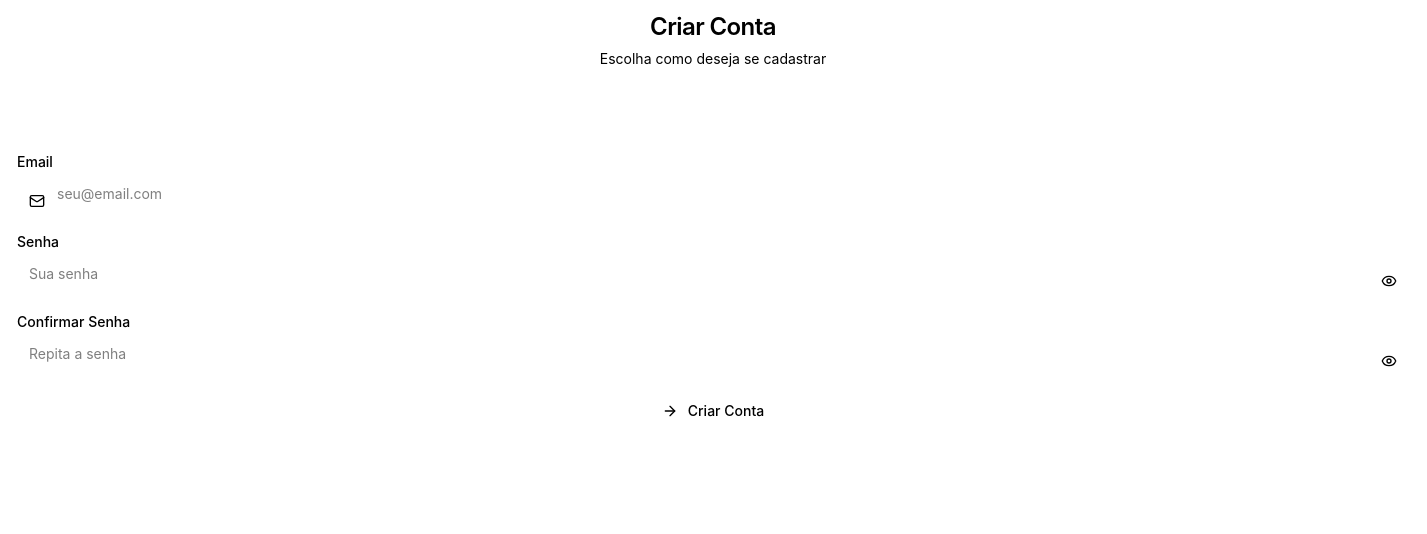
Test: StepAccount › password rules checklist › shows password rules checklist when user types in password
In the password field labelled "Senha": (713, 273) [17, 253, 1409, 293], type "a"
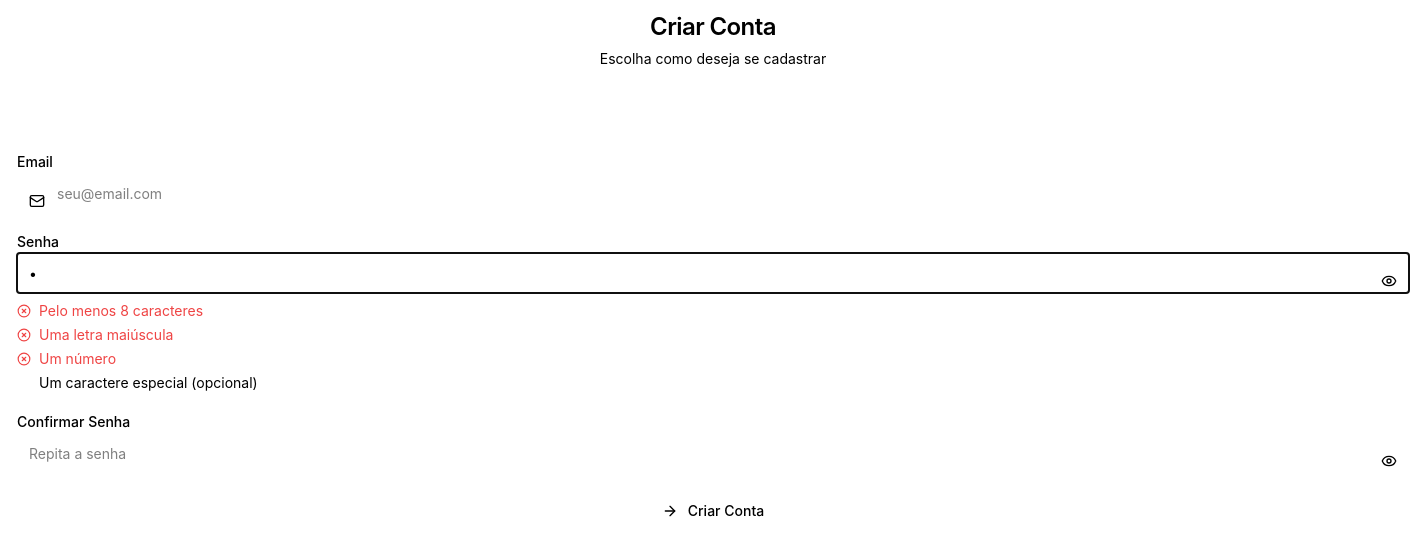
Expected: the text "Pelo menos 8 caracteres" is shown, [39, 301, 203, 321]
Expected: the text "Uma letra maiúscula" is shown, [39, 325, 173, 345]
Expected: the text "Um número" is shown, [39, 349, 116, 369]
